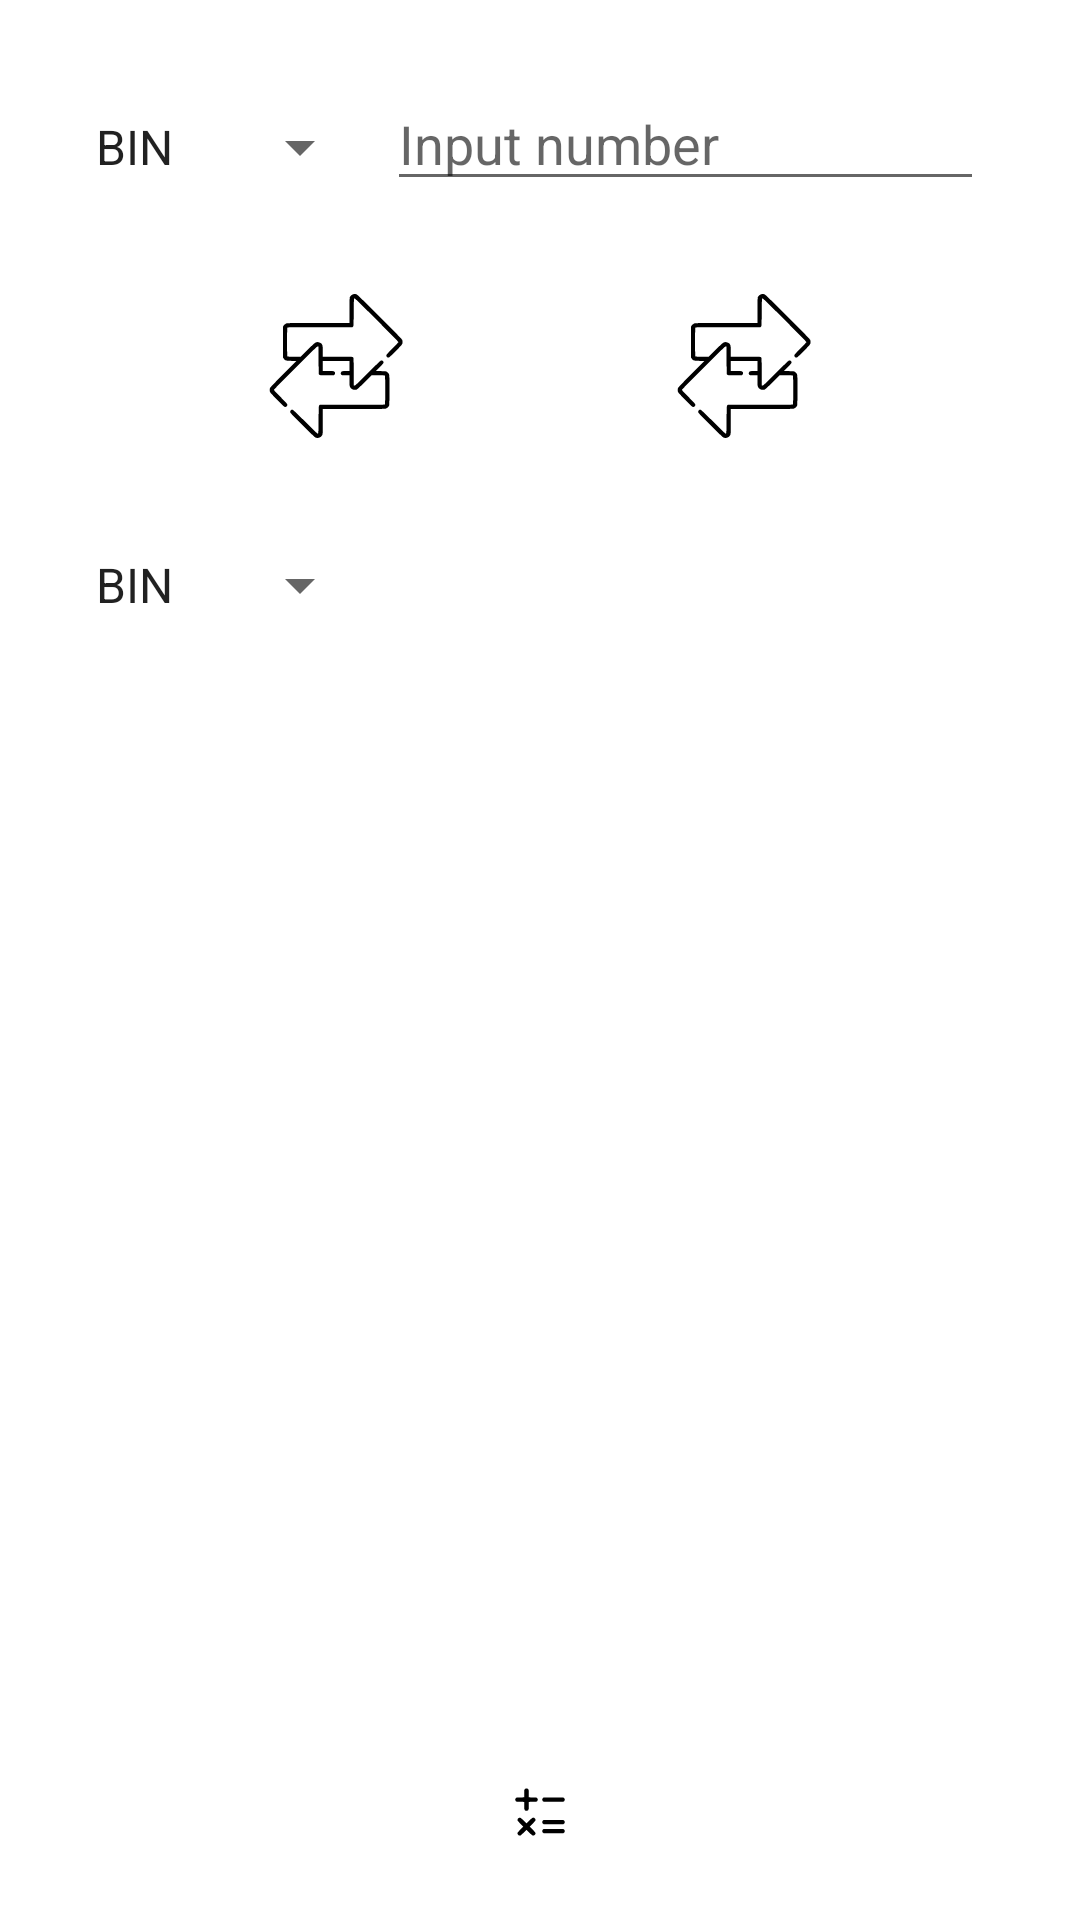

Icons on this 1080x1920 Android screen, each with its box as (x1, y1, x2, y2):
calculator: (515, 1788, 565, 1836)
exchange: (269, 294, 403, 438), (677, 294, 811, 438)
